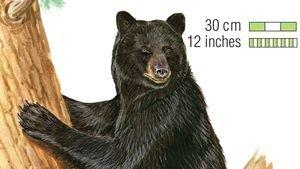bear: (18, 10, 228, 169)
